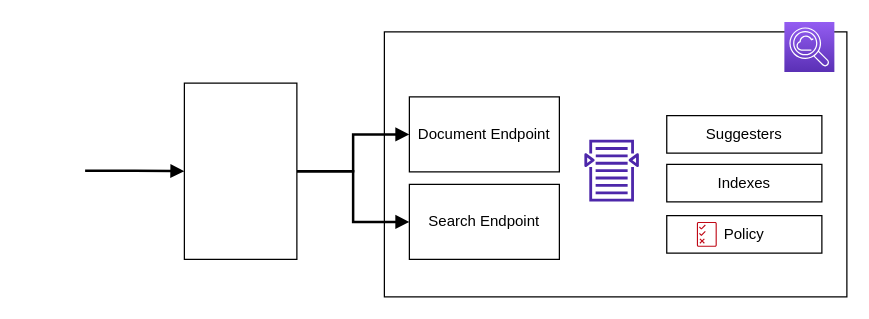
Some shapes in this 869 by 319 pixel diagram are drawn without their labels. Each missing label, with the box of its shape:
Application: (183, 82, 297, 259)
CloudSearch Domain: (383, 31, 847, 297)
